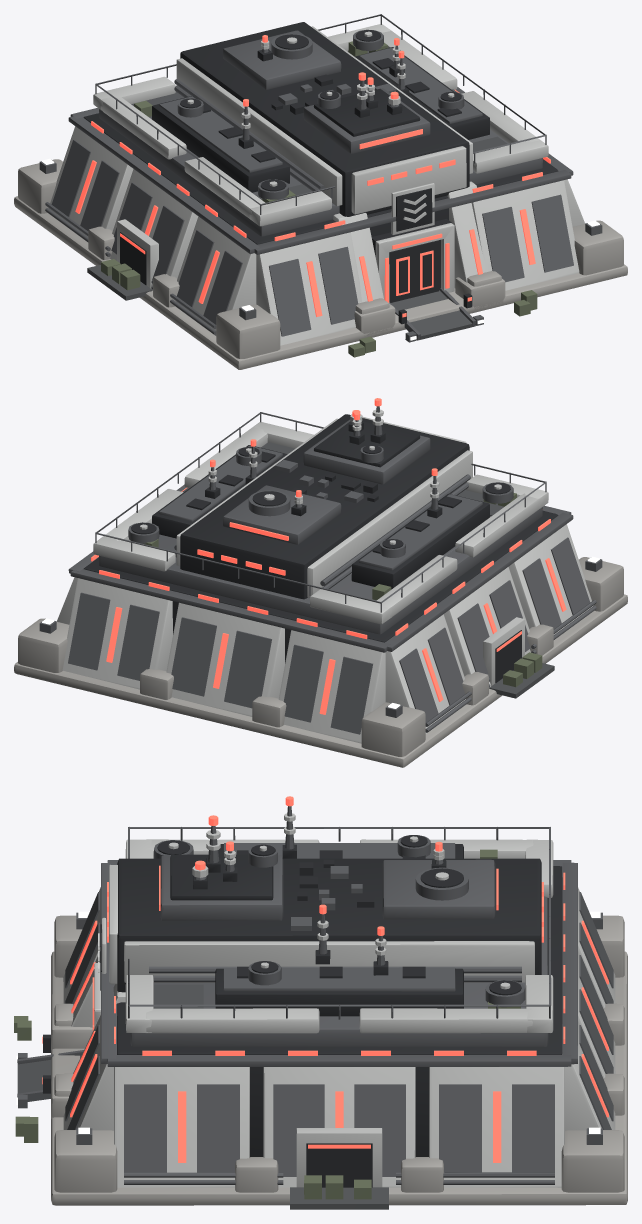
Rendered from sb_caserne_t1.glb.
3 renders of one model, top to bottom at view 1: azimuth 30°, elevation 25°; view 2: azimuth 150°, elevation 25°; view 3: azimuth 270°, elevation 25°, orthographic. The views are drawn at different scales.
Visible parts, largest first — view 1: SM_CB_BODY, SM_CB_LIGHTS; view 2: SM_CB_BODY, SM_CB_LIGHTS; view 3: SM_CB_BODY, SM_CB_LIGHTS.
Boxes of the visible parts, x1,y1,x2,y2 form: SM_CB_BODY: (14,14,627,369); SM_CB_LIGHTS: (42,35,599,340); SM_CB_BODY: (14,406,627,767); SM_CB_LIGHTS: (42,398,599,714); SM_CB_BODY: (14,806,627,1209); SM_CB_LIGHTS: (16,796,608,1162).
Size of the model in its own units: 26.72 by 12.26 by 25.93.
